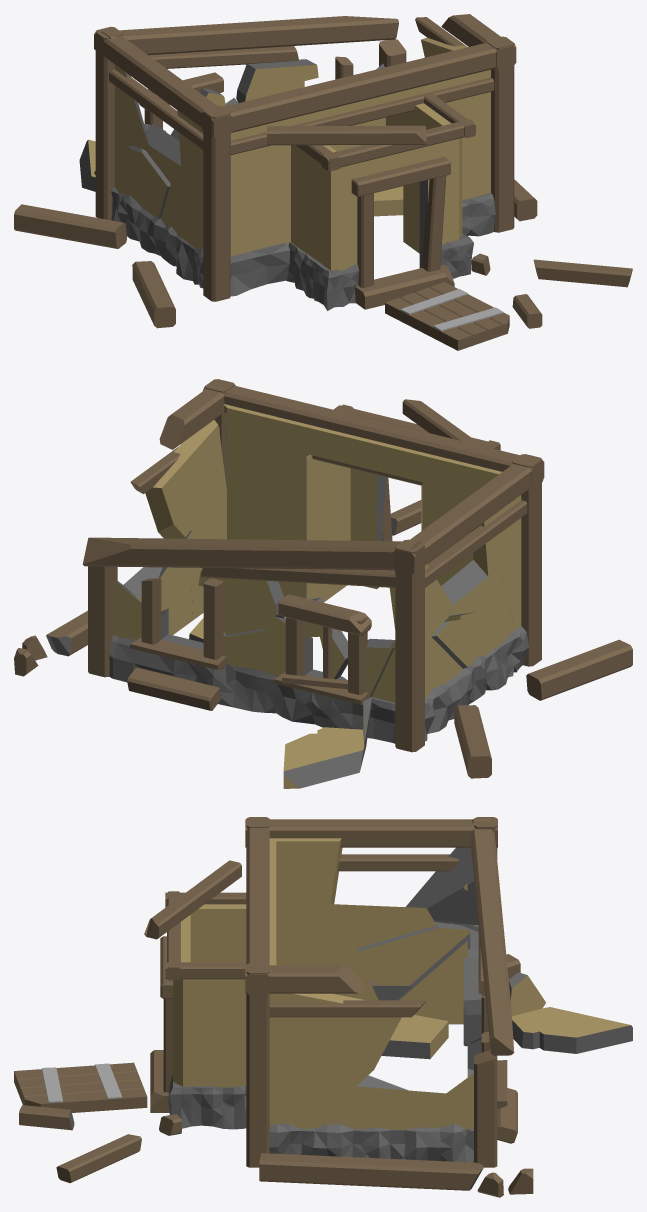
File: Ruins 2.fbx
3 renders of one model, top to bottom at view 1: azimuth 30°, elevation 25°; view 2: azimuth 150°, elevation 25°; view 3: azimuth 270°, elevation 25°, orthographic. The views are drawn at different scales.
Parts seen in each view (by area): view 1: House ruins 2; view 2: House ruins 2; view 3: House ruins 2.
Boxes of the visible parts, x1,y1,x2,y2 form: House ruins 2: (14,14,632,350); House ruins 2: (14,379,632,788); House ruins 2: (14,817,632,1197).
Bounding box in the file's own units: 8.28 × 3.37 × 9.62.
